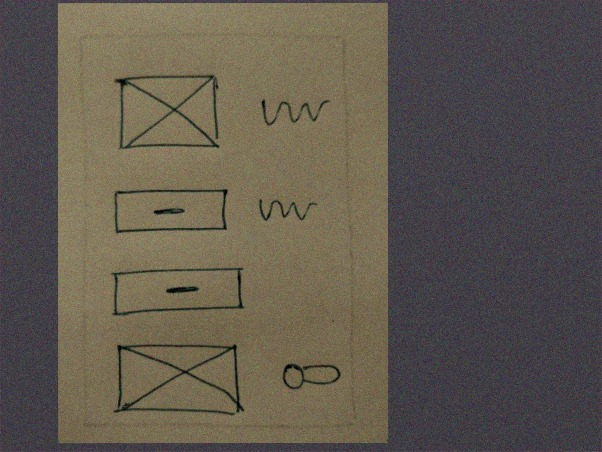image: (111, 341, 248, 421), (111, 69, 228, 156)
switch: (275, 353, 342, 397)
text: (251, 192, 322, 232), (255, 92, 331, 129)
text_input: (106, 265, 253, 324), (107, 182, 233, 239)
